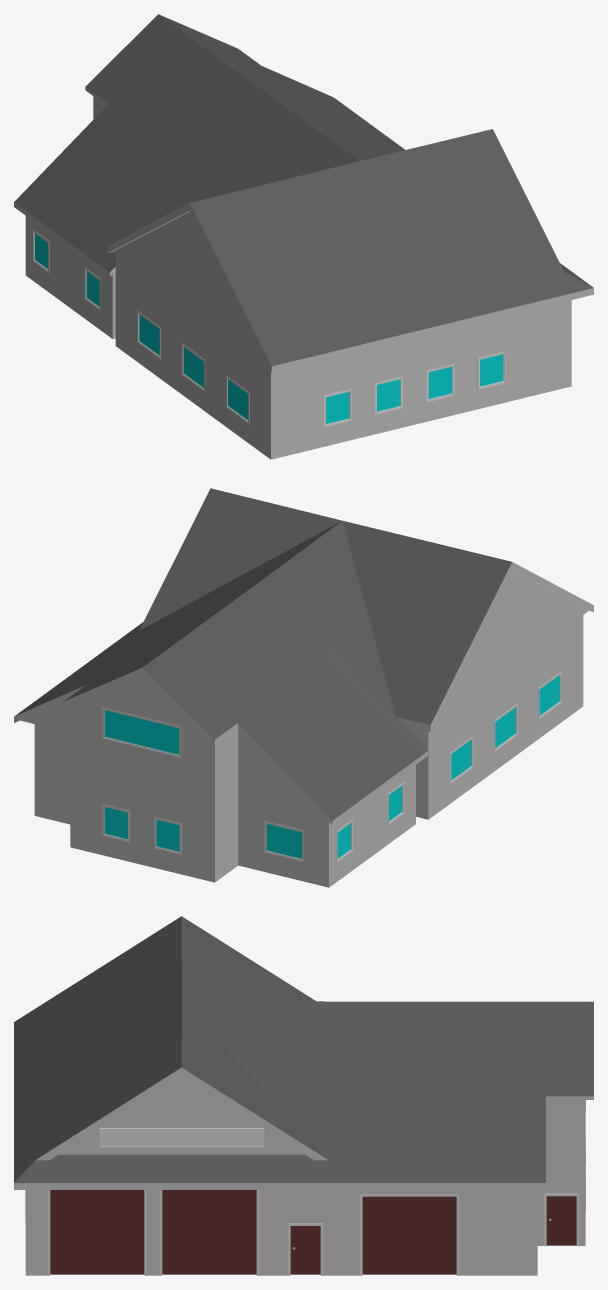
The model's file is Fire Department.fbx.
3 views of the same model, one above another, from view 1: azimuth 30°, elevation 25°; view 2: azimuth 150°, elevation 25°; view 3: azimuth 270°, elevation 25° (orthographic). The views are drawn at different scales.
Parts seen in each view (by area): view 1: polySurface30, polySurface38, polySurface25, polySurface26, polySurface24, polySurface23, polySurface27, polySurface28, polySurface29; view 2: polySurface30, polySurface38, polySurface19, polySurface18, polySurface20, polySurface6, polySurface27, polySurface28, polySurface29, polySurface21, polySurface22; view 3: polySurface30, polySurface38, polySurface31, polySurface40, polySurface39, polySurface35, polySurface33, polySurface34, polySurface37.
Boxes of the visible parts, x1,y1,x2,y2 form: polySurface30: (14,14,593,372); polySurface38: (25,96,571,459); polySurface25: (426,363,454,402); polySurface26: (477,351,505,389); polySurface24: (375,376,402,414); polySurface23: (324,388,351,427); polySurface27: (137,310,160,359); polySurface28: (181,343,204,391); polySurface29: (226,376,249,424); polySurface30: (14,488,593,825); polySurface38: (21,615,583,887); polySurface19: (102,707,181,758); polySurface18: (264,820,304,862); polySurface20: (153,816,181,855); polySurface6: (102,804,129,842); polySurface27: (450,736,473,784); polySurface28: (494,703,517,752); polySurface29: (538,671,561,719); polySurface21: (336,819,352,862); polySurface22: (388,782,404,825); polySurface30: (14,916,593,1189); polySurface38: (25,1100,585,1275); polySurface31: (99,1128,264,1147); polySurface40: (546,1196,576,1245); polySurface39: (290,1226,320,1274); polySurface35: (360,1194,459,1275); polySurface33: (47,1190,146,1275); polySurface34: (160,1190,259,1275); polySurface37: (544,1193,579,1246).
Size of the model in its own units: 47.57 by 28.52 by 72.46.
